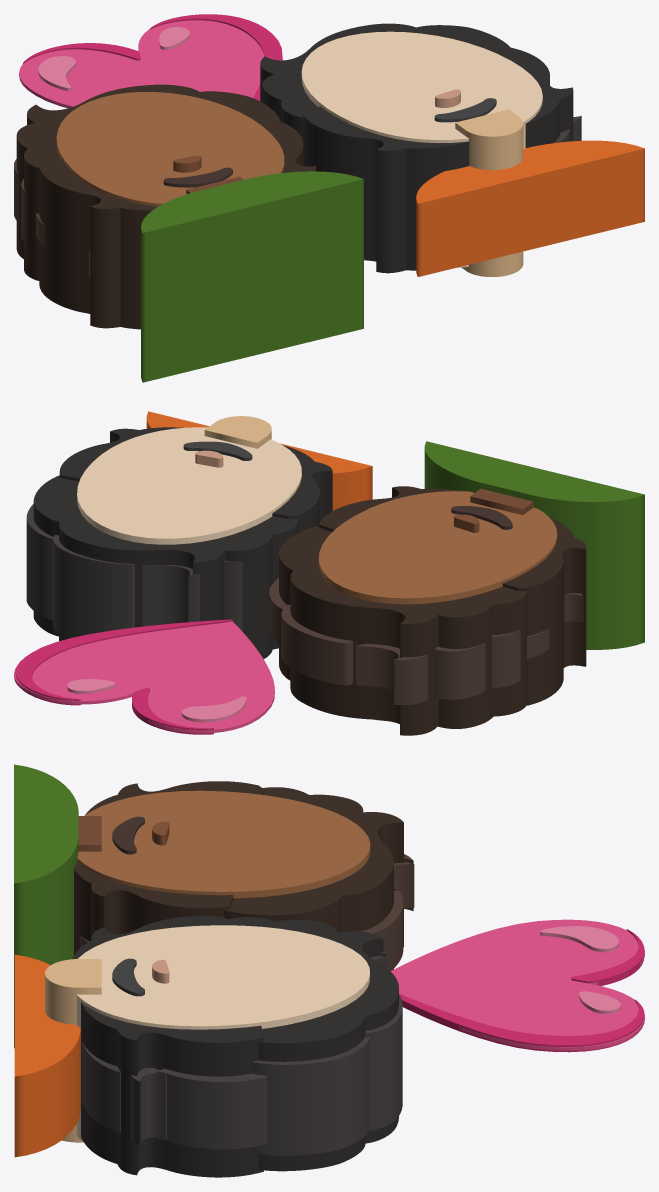
The model's file is emoji_u1f9d1_1f3fe_200d_2764_200d_1f9d1_1f3fb.glb.
The picture shows the model from 3 angles, top to bottom: view 1: azimuth 30°, elevation 25°; view 2: azimuth 150°, elevation 25°; view 3: azimuth 270°, elevation 25°; orthographic projection. The views are drawn at different scales.
Parts seen in each view (by area): view 1: emoji_u1f9d1_1f3fe_200d_2764_200d_1f9d1_1f3fb; view 2: emoji_u1f9d1_1f3fe_200d_2764_200d_1f9d1_1f3fb; view 3: emoji_u1f9d1_1f3fe_200d_2764_200d_1f9d1_1f3fb.
Boxes of the visible parts, left/top/right/bottom form: emoji_u1f9d1_1f3fe_200d_2764_200d_1f9d1_1f3fb: left=14, top=14, right=644, bottom=382; emoji_u1f9d1_1f3fe_200d_2764_200d_1f9d1_1f3fb: left=14, top=411, right=644, bottom=735; emoji_u1f9d1_1f3fe_200d_2764_200d_1f9d1_1f3fb: left=14, top=764, right=644, bottom=1177.
Size of the model in its own units: 0.0345 by 0.0098 by 0.034.
